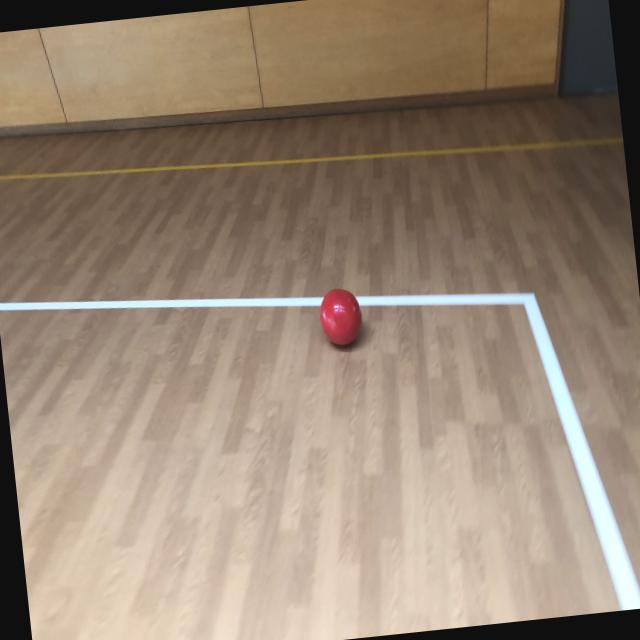red_ball: (316, 286, 365, 349)
